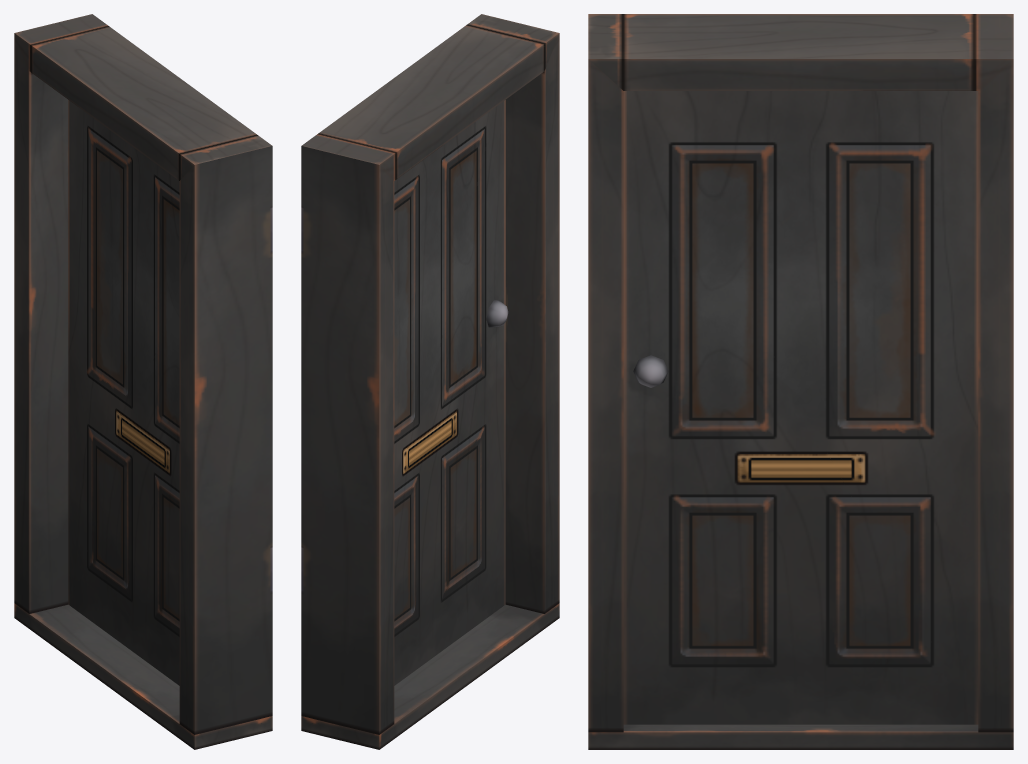
File: door16.FBX
3 views of the same model, side by side, from view 1: azimuth 30°, elevation 25°; view 2: azimuth 150°, elevation 25°; view 3: azimuth 270°, elevation 25° (orthographic). The views are drawn at different scales.
Parts seen in each view (by area): view 1: door16_frame, door16; view 2: door16_frame, door16; view 3: door16, door16_frame.
Boxes of the visible parts, bbox=[...] form: door16_frame: bbox=[14, 14, 272, 749]; door16: bbox=[68, 100, 179, 685]; door16_frame: bbox=[301, 14, 559, 749]; door16: bbox=[394, 100, 508, 685]; door16: bbox=[623, 91, 978, 724]; door16_frame: bbox=[588, 14, 1013, 749].
Size of the model in its own units: 30 by 215 by 120.
